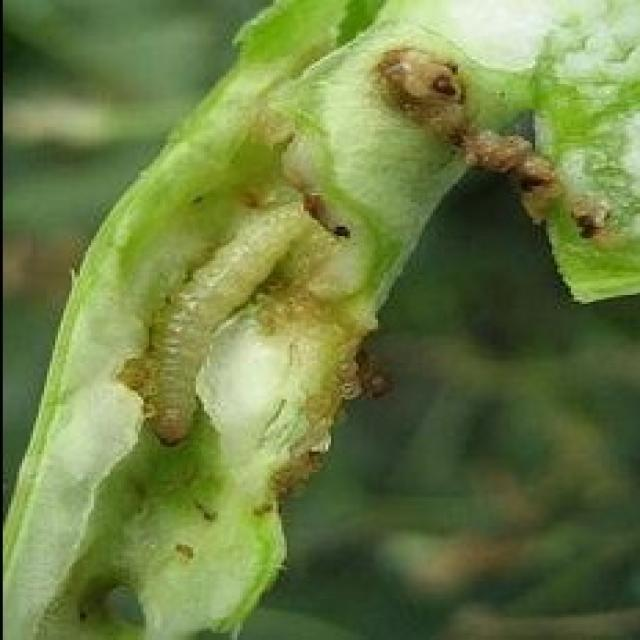peach borer: (145, 197, 316, 451)
